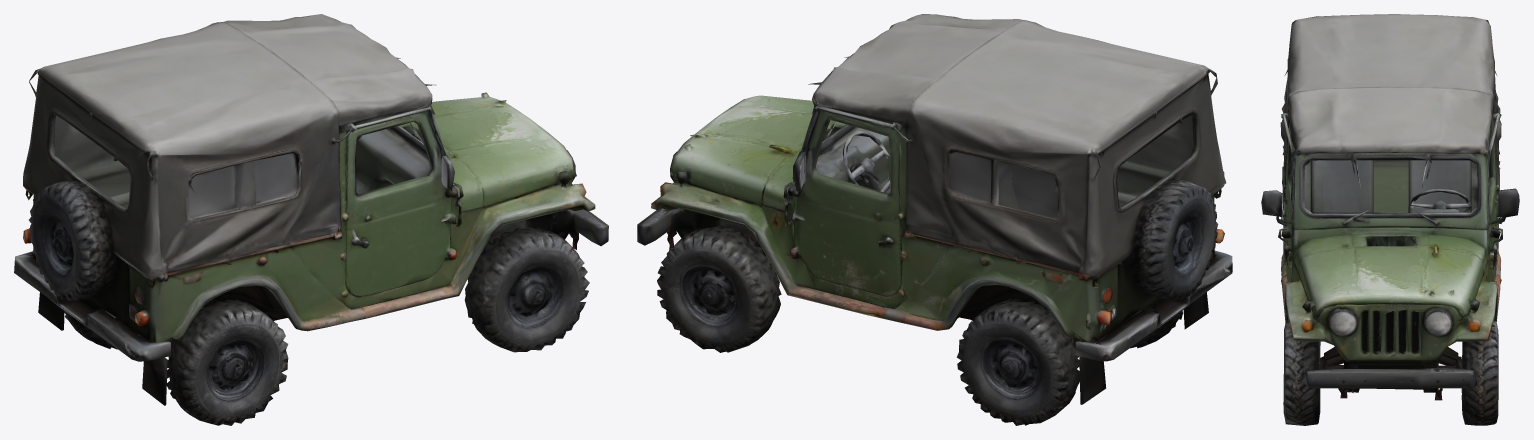
The model's file is car_uaz.glb.
The picture shows the model from 3 angles, left to right: view 1: azimuth 30°, elevation 25°; view 2: azimuth 150°, elevation 25°; view 3: azimuth 270°, elevation 25°; orthographic projection. The views are drawn at different scales.
Visible parts, largest first — view 1: tripo_node_5dd58dd1-d4c6-4eb9-a4eb-6c572e14e794; view 2: tripo_node_5dd58dd1-d4c6-4eb9-a4eb-6c572e14e794; view 3: tripo_node_5dd58dd1-d4c6-4eb9-a4eb-6c572e14e794.
Boxes of the visible parts, x1=… form: tripo_node_5dd58dd1-d4c6-4eb9-a4eb-6c572e14e794: x1=14, y1=14, x2=608, y2=425; tripo_node_5dd58dd1-d4c6-4eb9-a4eb-6c572e14e794: x1=637, y1=14, x2=1232, y2=425; tripo_node_5dd58dd1-d4c6-4eb9-a4eb-6c572e14e794: x1=1261, y1=14, x2=1519, y2=425.
Size of the model in its own units: 0.9766 by 0.5552 by 0.5125.
Materials: 1 (1 with a texture image).
